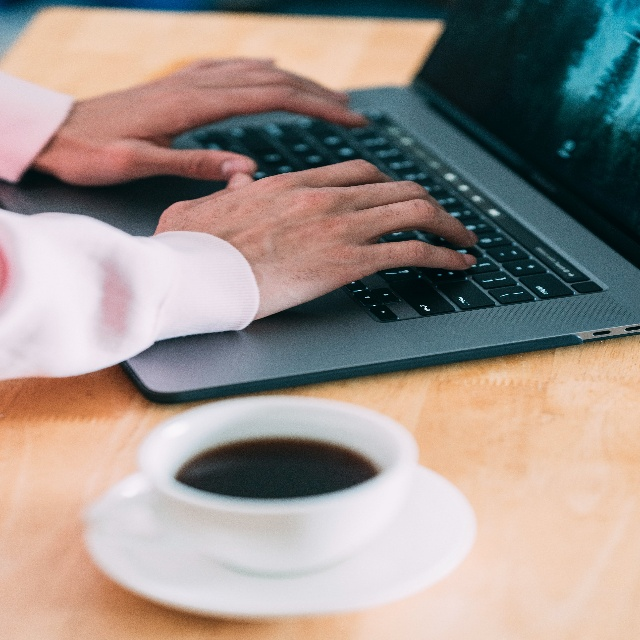Sin_guantes: (152, 156, 483, 321), (55, 53, 371, 189)
